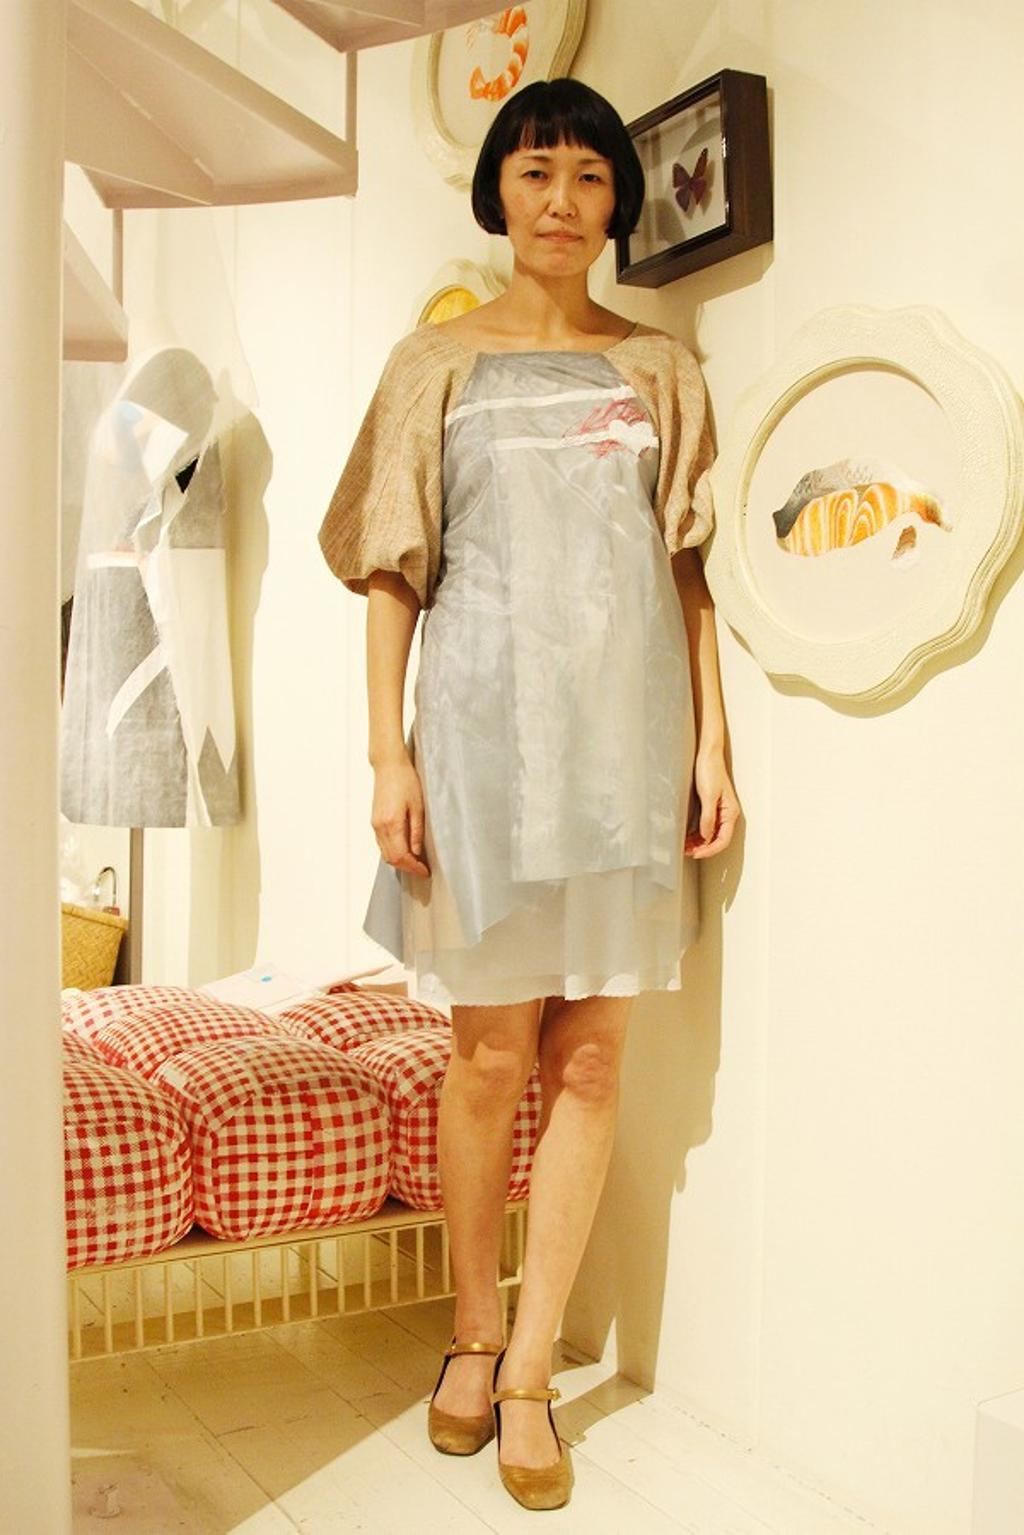face: (506, 120, 614, 273)
